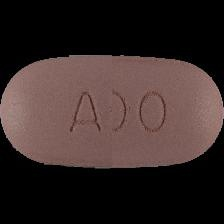16729-019: (0, 0, 224, 224)
